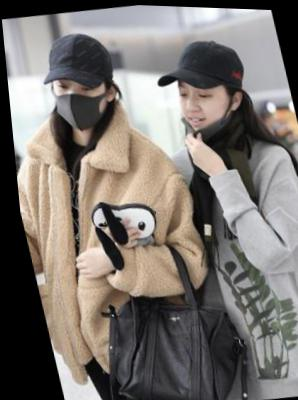OK: (48, 74, 112, 134)
WRONG: (173, 77, 233, 138)
